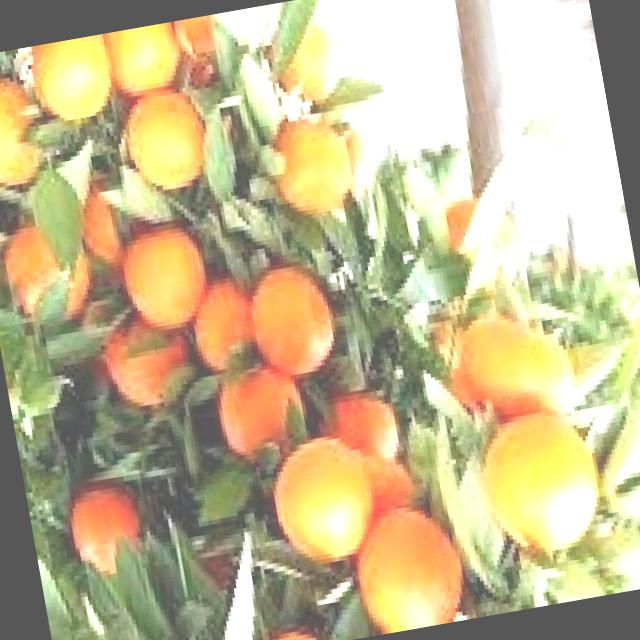Orange: (461, 394, 616, 574), (432, 308, 593, 468), (255, 425, 392, 593), (195, 332, 322, 482), (346, 502, 474, 630), (88, 294, 206, 429), (44, 469, 162, 600), (422, 182, 537, 312), (230, 264, 346, 391), (110, 216, 213, 354), (104, 88, 223, 206), (0, 218, 102, 353), (258, 108, 369, 232), (251, 10, 356, 121), (180, 268, 276, 387), (86, 24, 196, 124), (18, 36, 124, 136), (0, 65, 60, 191)
